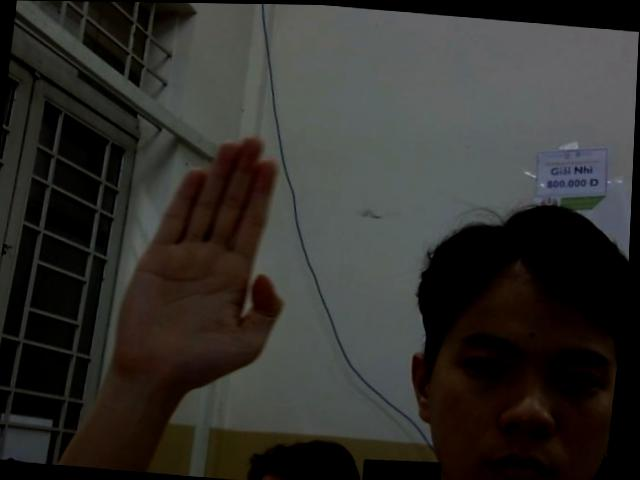B: (103, 130, 315, 386)
